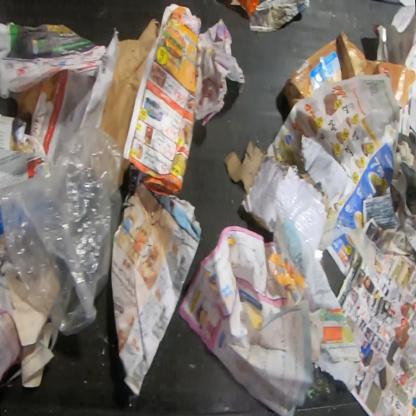cardboard: (110, 181, 203, 400), (222, 138, 330, 263), (282, 28, 415, 111), (98, 17, 160, 148), (390, 82, 415, 140)
soft_plastic: (0, 125, 126, 337), (318, 224, 376, 280)
